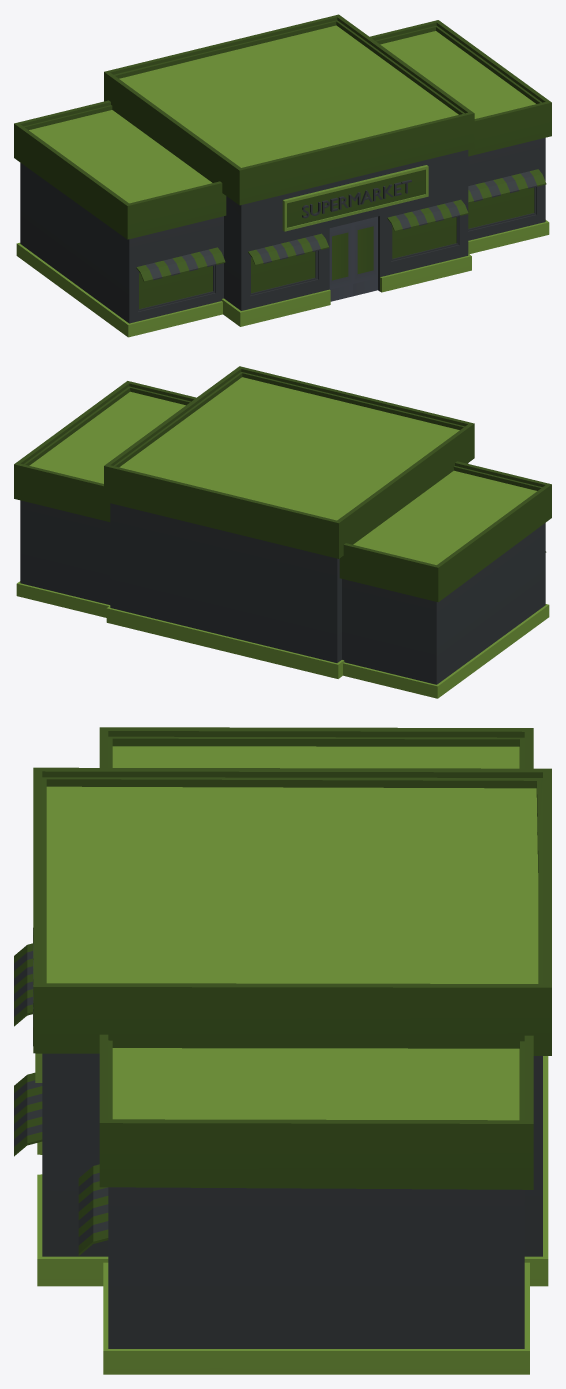
File: Supermarket_01.fbx
3 views of the same model, one above another, from view 1: azimuth 30°, elevation 25°; view 2: azimuth 150°, elevation 25°; view 3: azimuth 270°, elevation 25° (orthographic). The views are drawn at different scales.
Parts seen in each view (by area): view 1: Supermarket_01; view 2: Supermarket_01; view 3: Supermarket_01.
Part boxes in pixels (box(x1,y1,x2,y2)): Supermarket_01: box(14, 14, 551, 337); Supermarket_01: box(14, 366, 551, 698); Supermarket_01: box(14, 727, 551, 1374).
Bounding box in the file's own units: 12.75 × 4.52 × 7.32.
